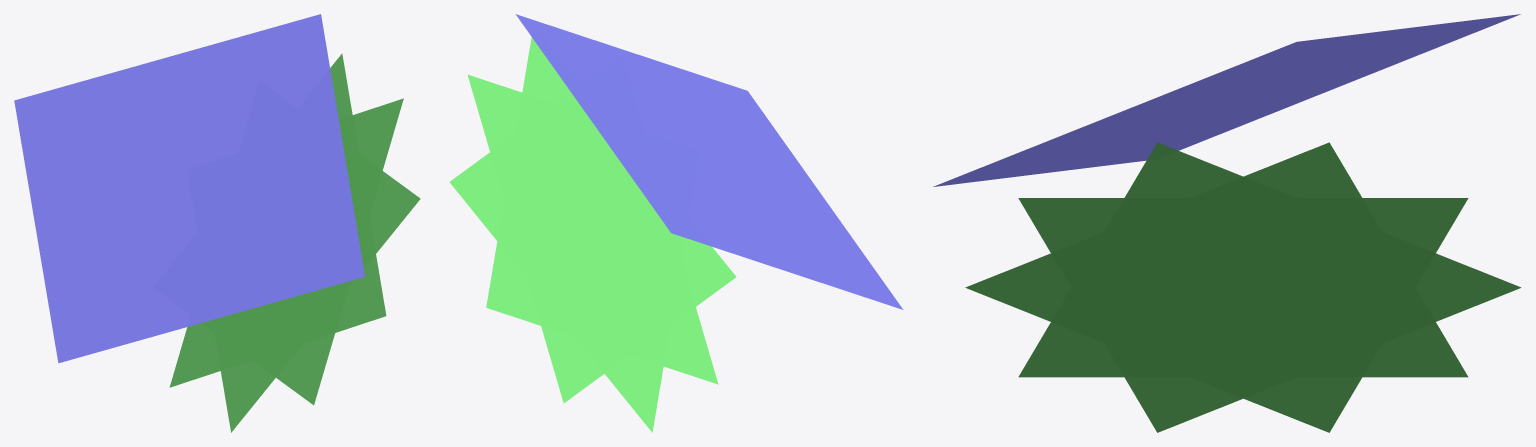
File: GreatRhombidodecahedronF.obj
3 views of the same model, side by side, from view 1: azimuth 30°, elevation 25°; view 2: azimuth 150°, elevation 25°; view 3: azimuth 270°, elevation 25° (orthographic). The views are drawn at different scales.
Bounding box in the file's own units: 1.24 × 1.19 × 1.31.
